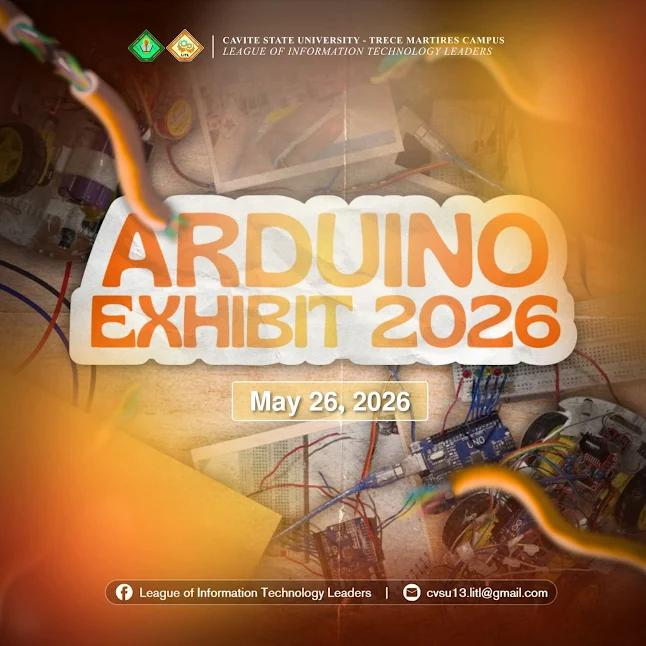embellishment: (400, 582, 423, 603), (113, 581, 134, 602)
logo: (125, 26, 167, 65), (168, 26, 206, 64)
text: (86, 207, 569, 355), (219, 33, 513, 61), (246, 386, 416, 419), (135, 582, 379, 601), (426, 584, 551, 600)
underlay: (69, 194, 579, 366), (105, 580, 558, 604), (231, 380, 428, 420)
